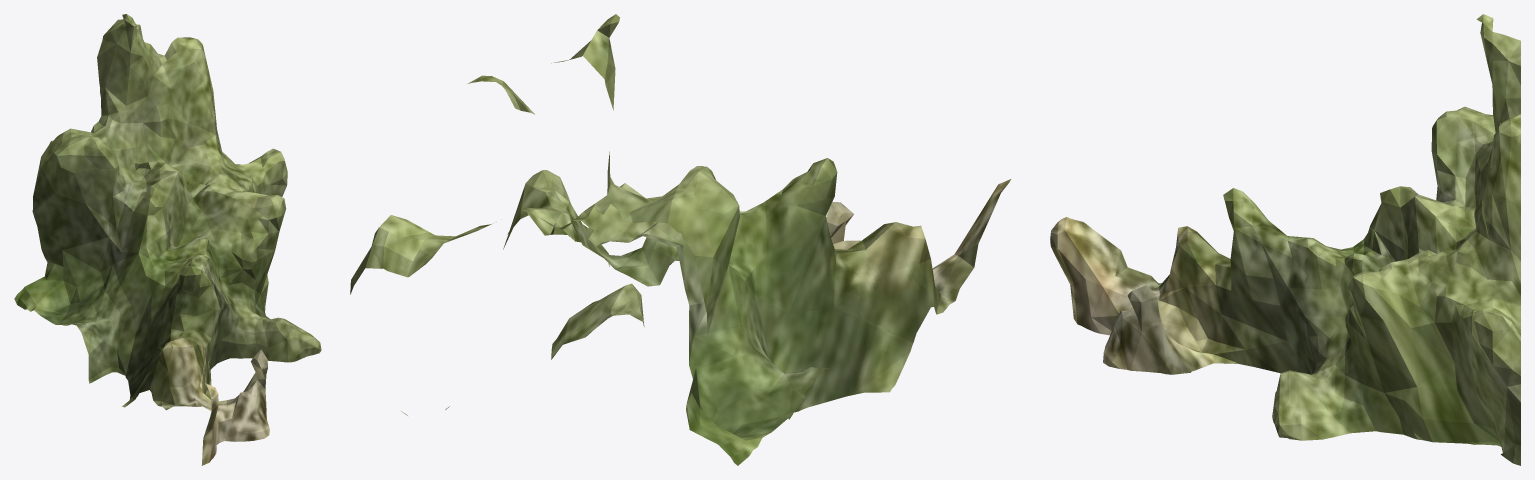
3 views of the same model, side by side, from view 1: azimuth 30°, elevation 25°; view 2: azimuth 150°, elevation 25°; view 3: azimuth 270°, elevation 25° (orthographic). The views are drawn at different scales.
Size of the model in its own units: 3.07 by 3.33 by 3.94.
Materials: 2 (2 with a texture image).
